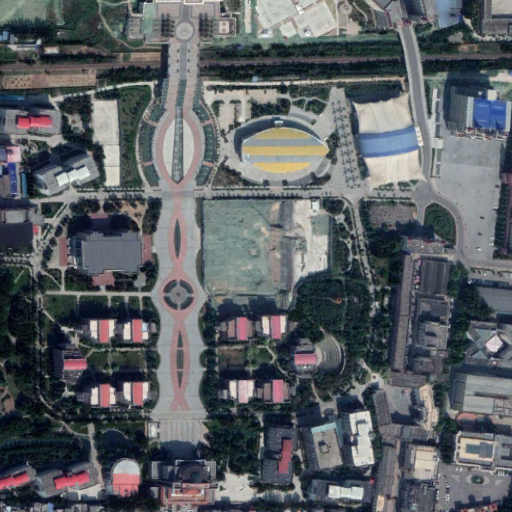cw: (200, 193, 288, 294)
